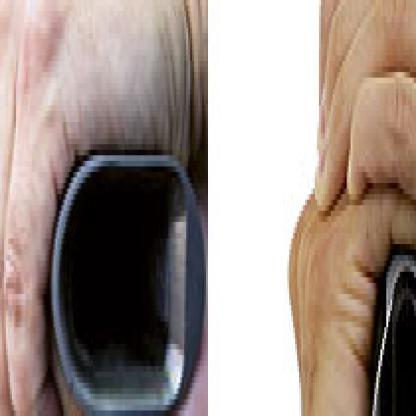gun: (0, 78, 210, 411), (352, 0, 415, 411)
